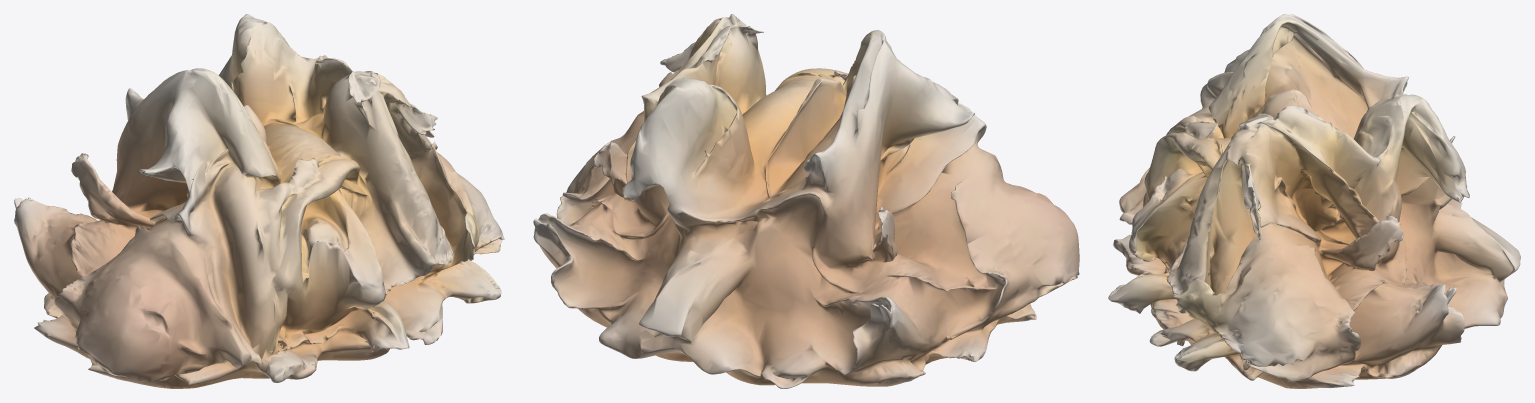
File: g-ginger.glb
3 views of the same model, side by side, from view 1: azimuth 30°, elevation 25°; view 2: azimuth 150°, elevation 25°; view 3: azimuth 270°, elevation 25° (orthographic). The views are drawn at different scales.
Visible parts, largest first — view 1: tripo_node_c97d1456-f80b-4d9a-9249-a222af7e0fc1; view 2: tripo_node_c97d1456-f80b-4d9a-9249-a222af7e0fc1; view 3: tripo_node_c97d1456-f80b-4d9a-9249-a222af7e0fc1.
Boxes of the visible parts, bbox=[...] form: tripo_node_c97d1456-f80b-4d9a-9249-a222af7e0fc1: bbox=[14, 14, 504, 388]; tripo_node_c97d1456-f80b-4d9a-9249-a222af7e0fc1: bbox=[533, 14, 1079, 388]; tripo_node_c97d1456-f80b-4d9a-9249-a222af7e0fc1: bbox=[1108, 14, 1520, 388].
Bounding box in the file's own units: 0.9818 × 0.597 × 0.8324.
Materials: 1 (1 with a texture image).
